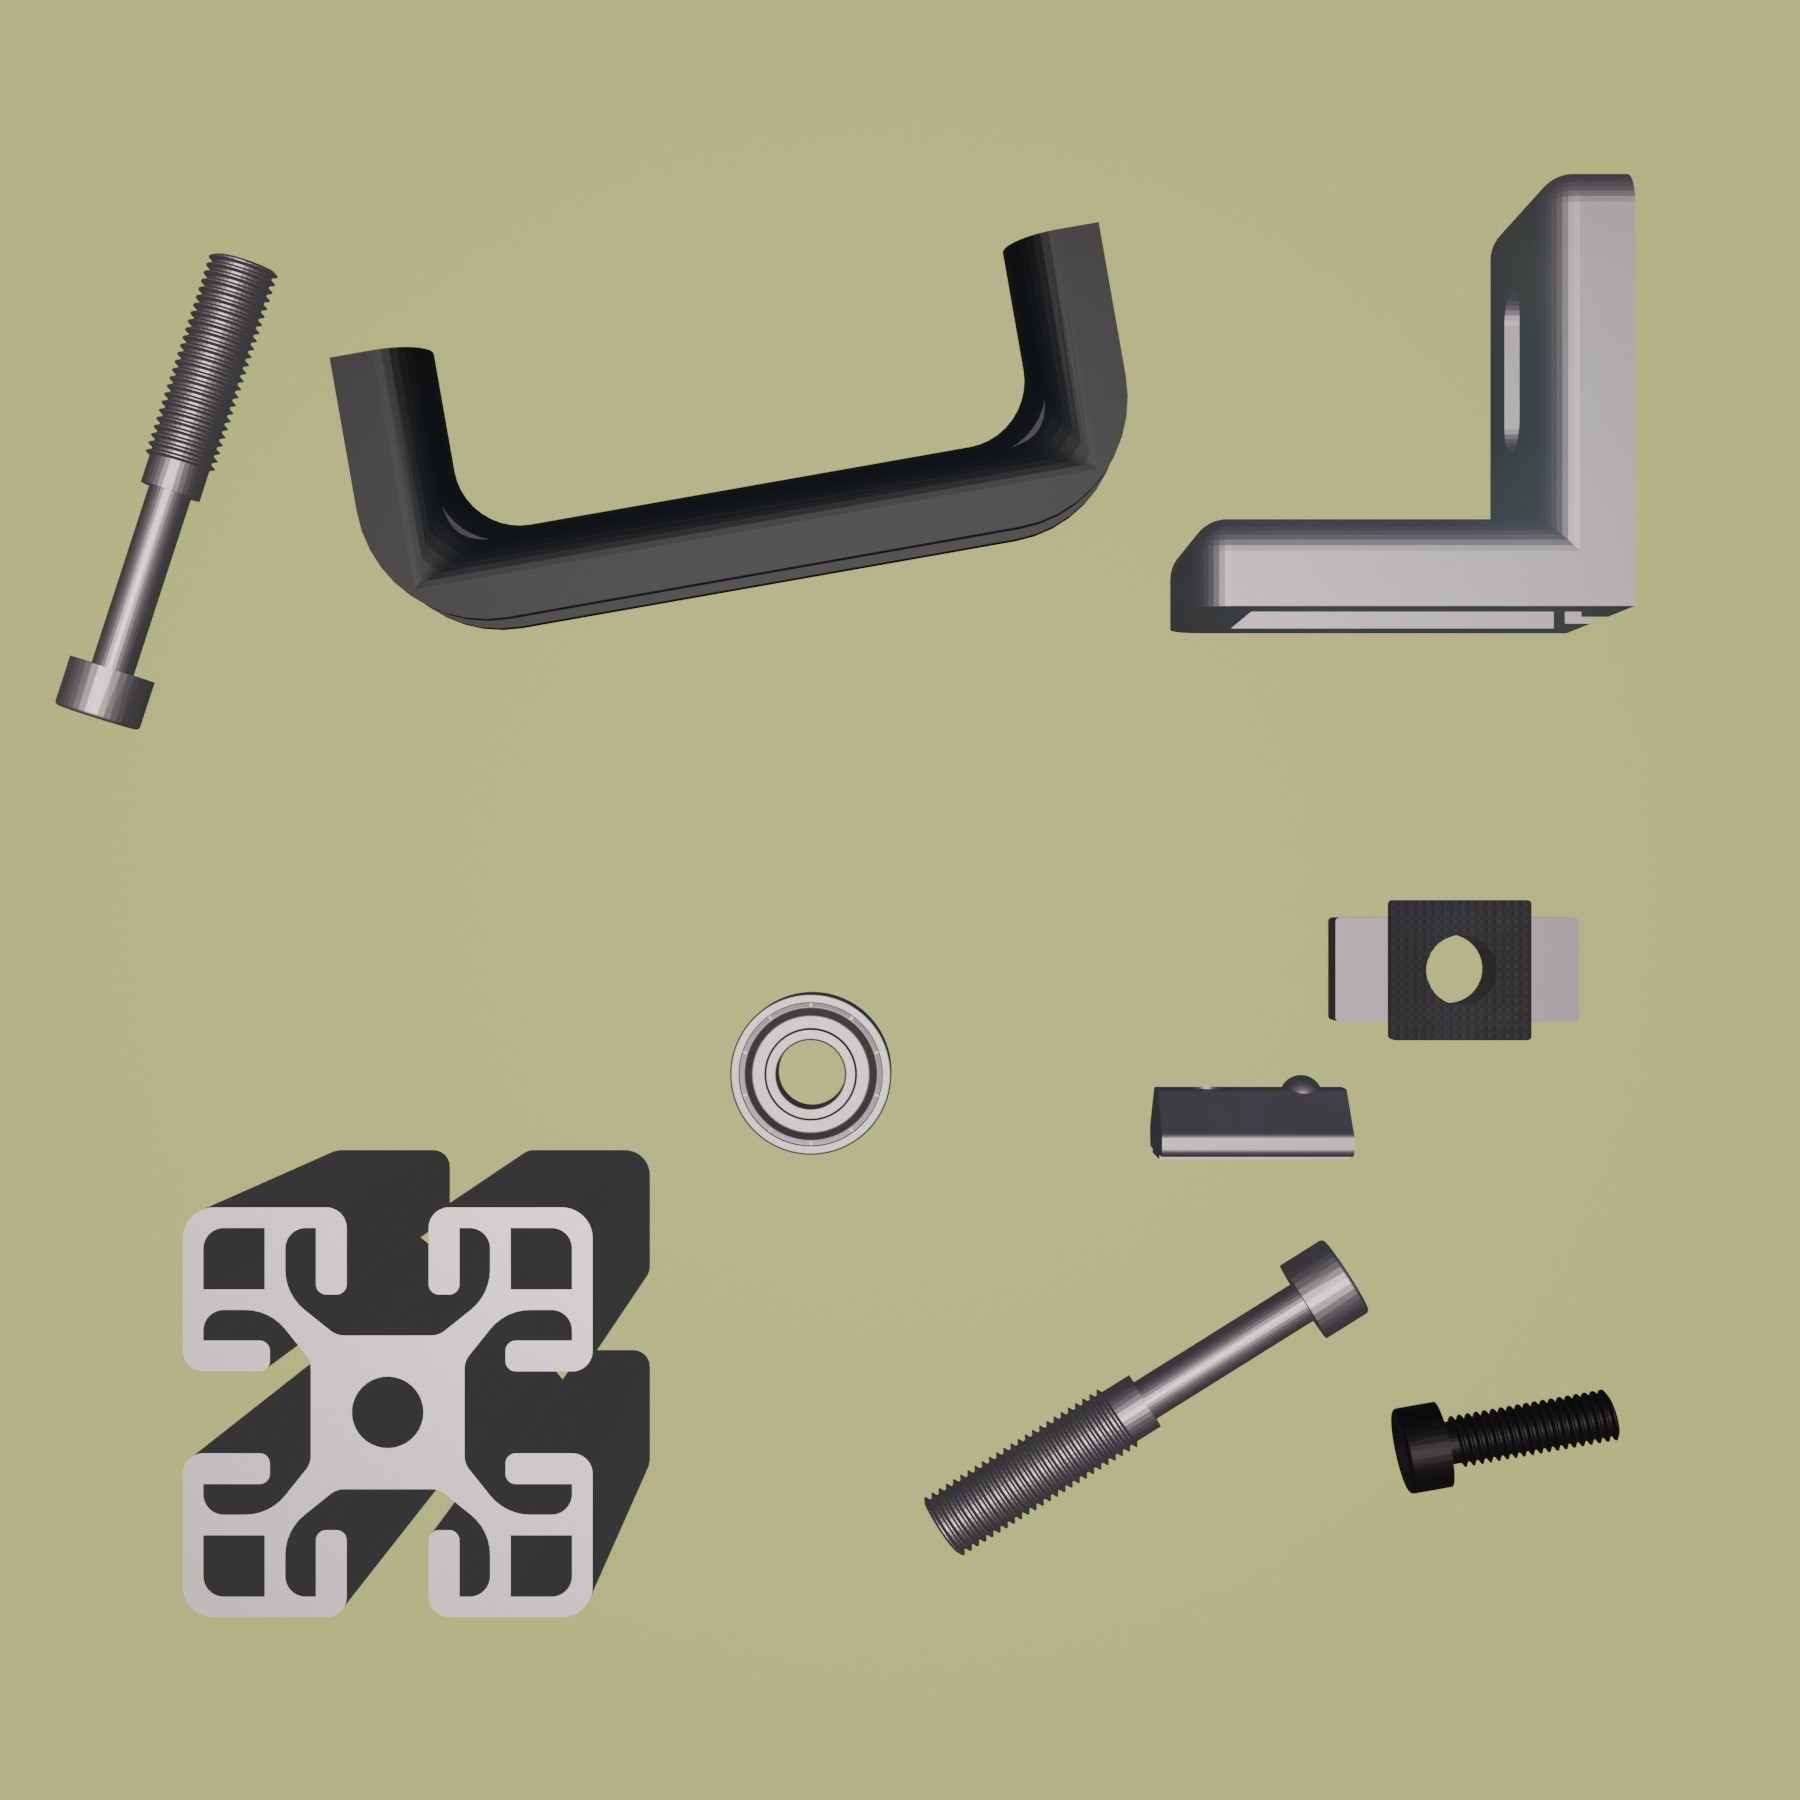Aluminium Extension: (180, 1146, 653, 1624)
Ball Bearing: (727, 989, 897, 1159)
Multiwinkel: (1165, 168, 1640, 640)
Pull Handle: (328, 219, 1131, 631)
Shoulder Socket Head Cap Screw: (925, 1236, 1371, 1558), (51, 249, 279, 732)
Socket Head Cap Screw: (1388, 1386, 1620, 1497)
T Nut Square: (1324, 893, 1586, 1047)
T Spring Nut: (1146, 1070, 1358, 1165)
